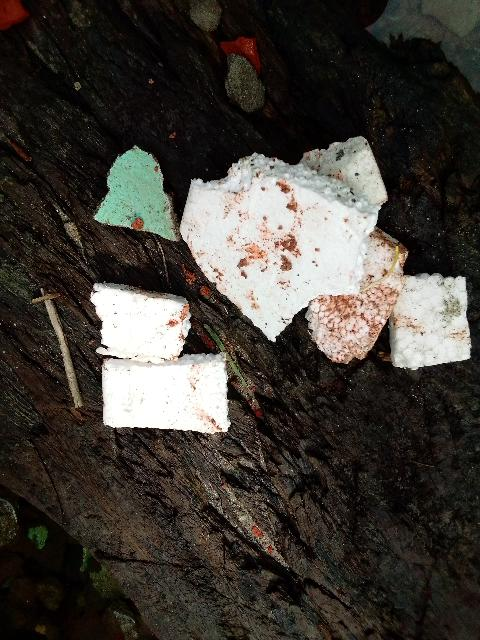cocksheet: (189, 128, 480, 398), (97, 273, 255, 439)
